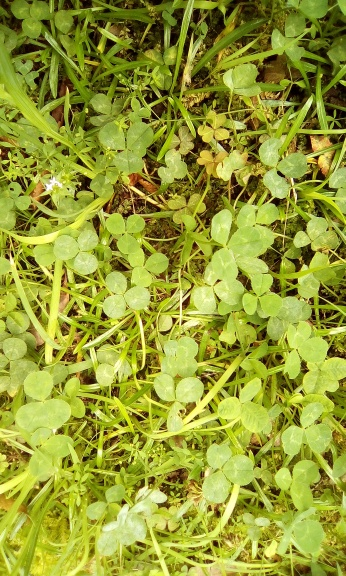4leaf: (160, 336, 199, 380)
